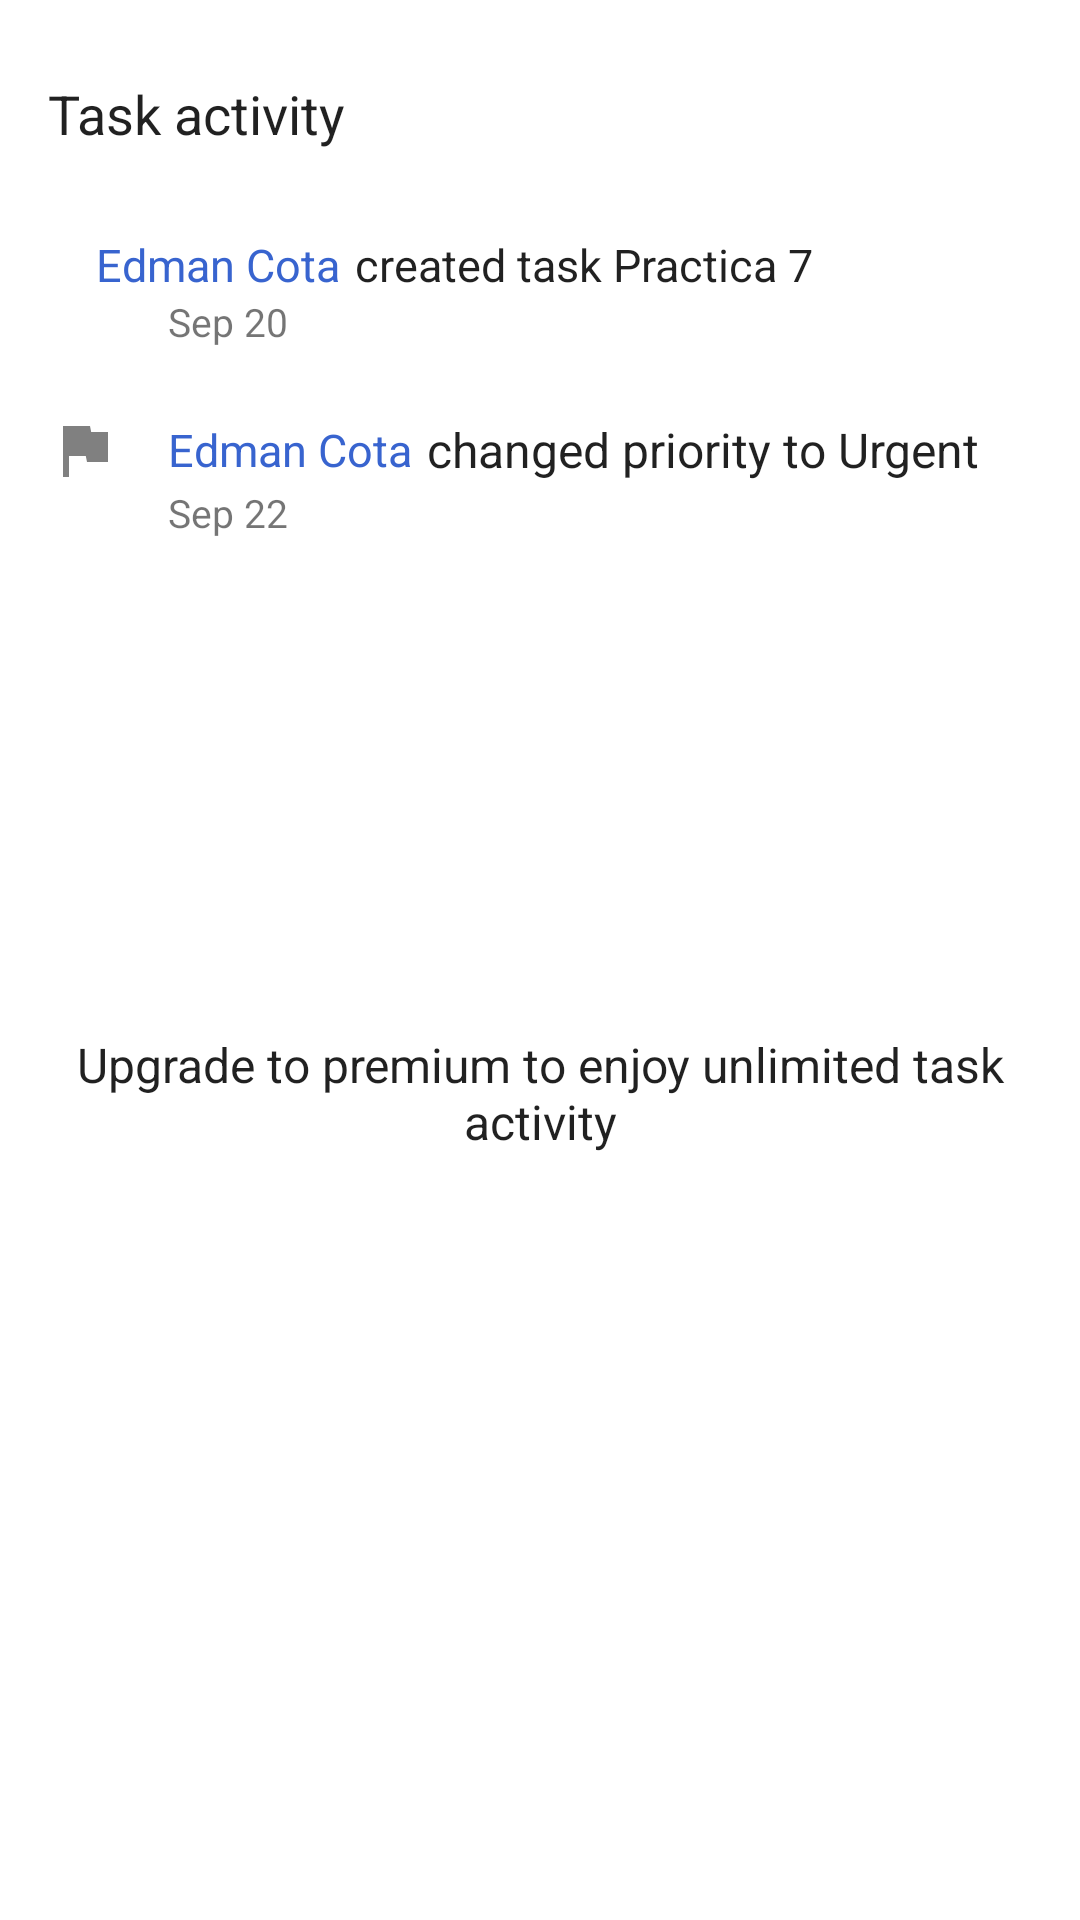

Screen size 1080px×1920px. Icon name, then its box in pixels as (x1, y1, x2, y2):
flag low: (63, 426, 108, 477)
